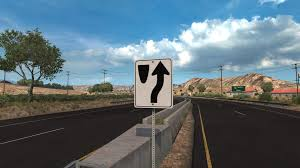keepRight: (133, 58, 174, 109)
